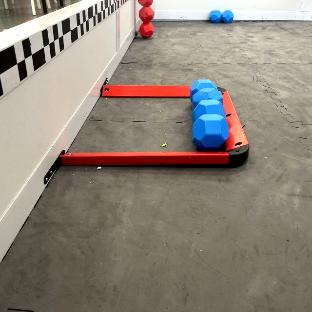V5_BLUE: (193, 113, 228, 149), (192, 94, 224, 118), (191, 79, 221, 104), (222, 12, 232, 23), (210, 11, 220, 22)
V5_RED: (140, 0, 154, 37)
